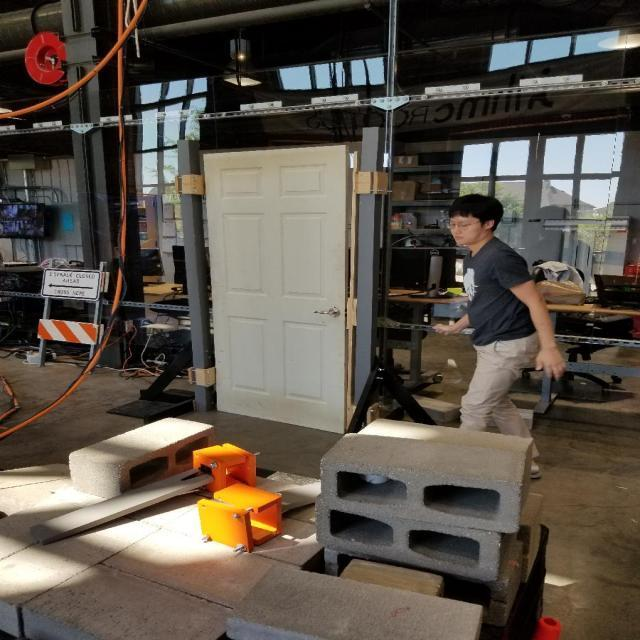door: (198, 142, 350, 438), (313, 306, 342, 320)
